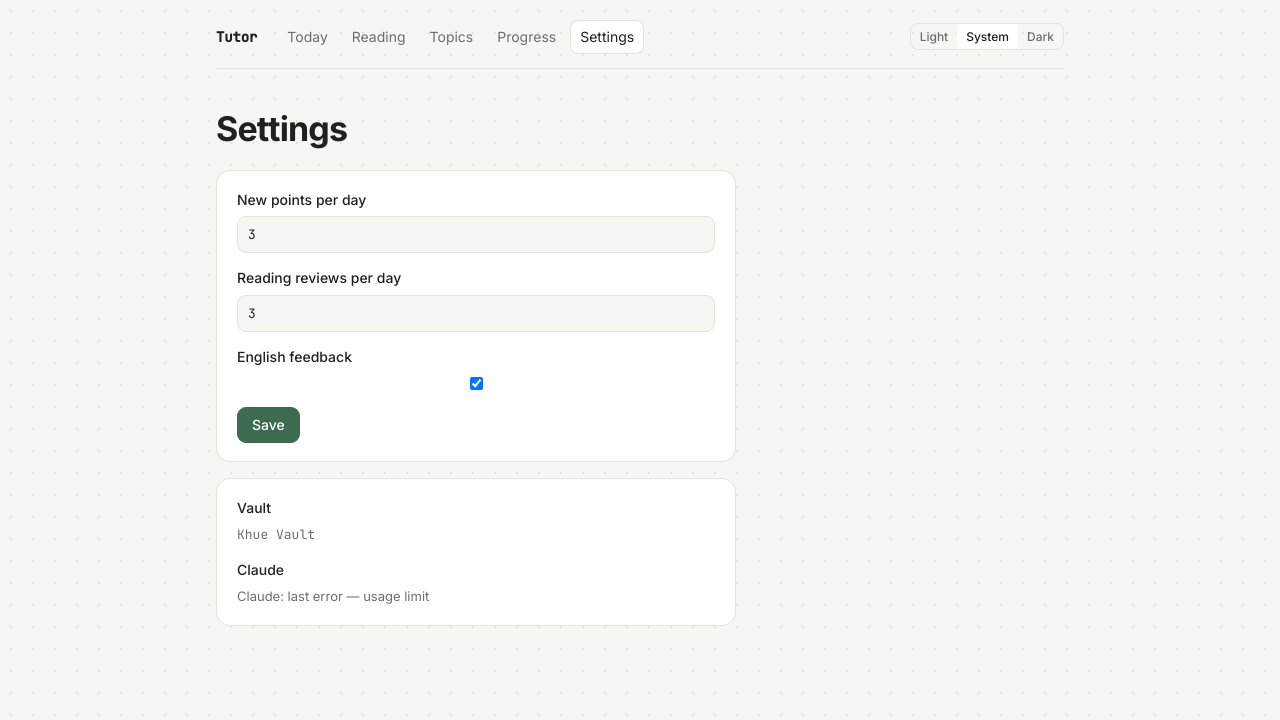
Test case: settings saves new per day
Replace the text in the number field labelled "New points per day" with "5" at {"x": 476, "y": 235}, box [237, 216, 715, 254]
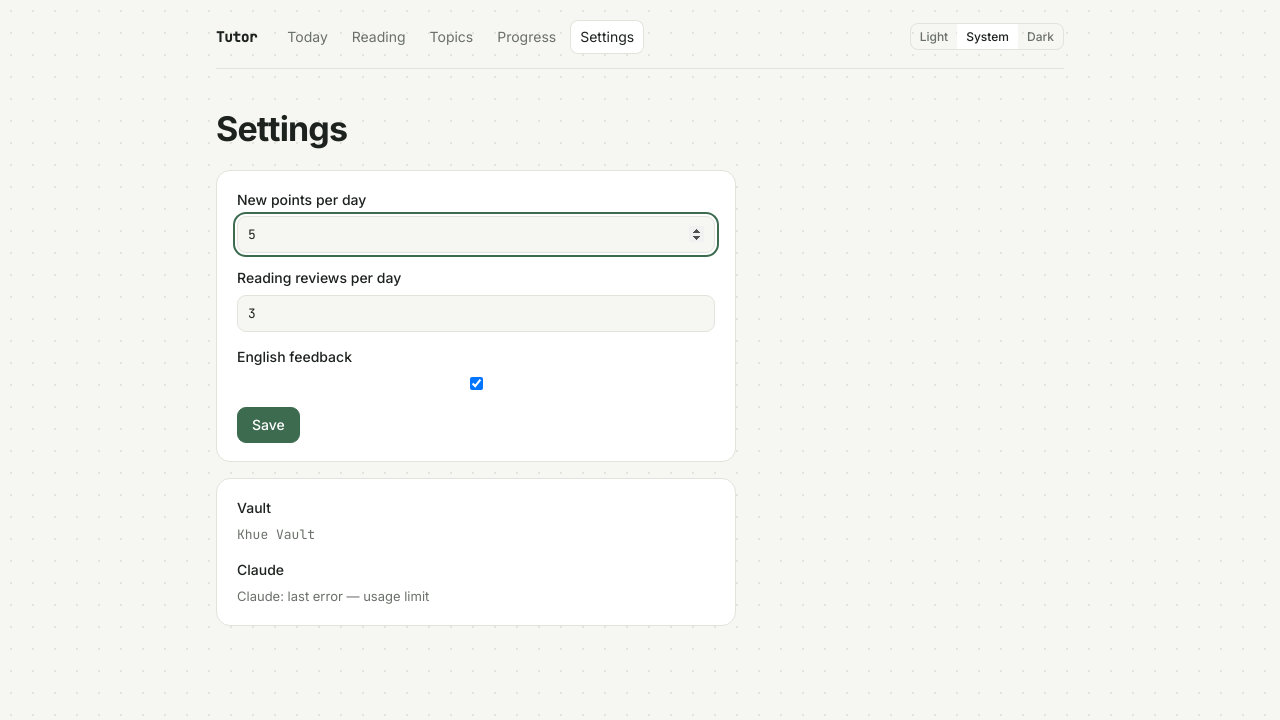
Click the button "Save" at {"x": 268, "y": 425}, box [237, 407, 300, 443]
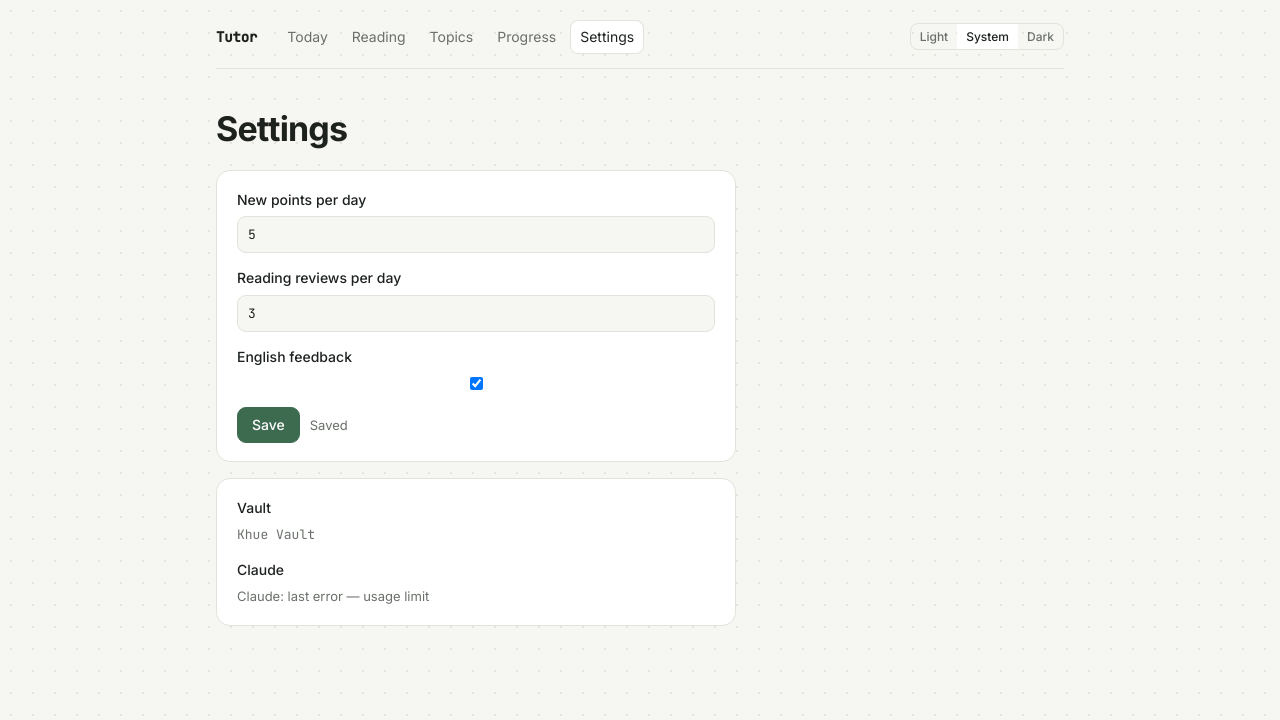
Expected: the text "Claude: last error — usage limit" is shown, [237, 588, 429, 604]
Result: the text "Saved" is shown at [310, 415, 348, 435]
